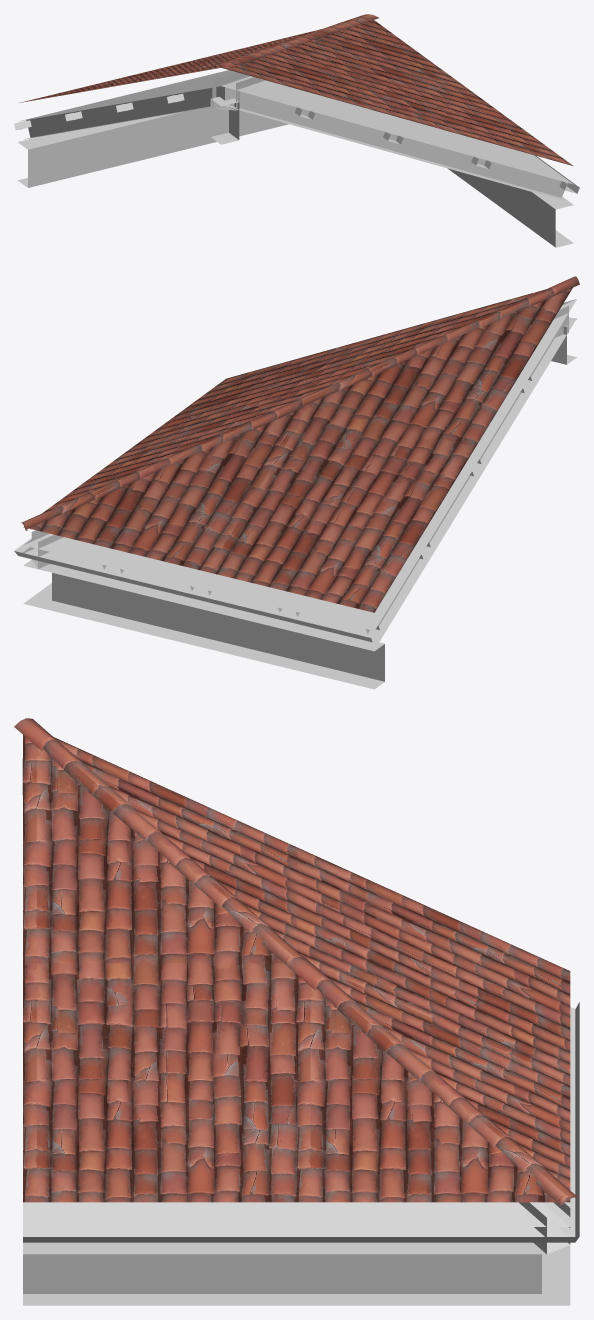
File: WallKit_Hip_LOD1.fbx
3 views of the same model, one above another, from view 1: azimuth 30°, elevation 25°; view 2: azimuth 150°, elevation 25°; view 3: azimuth 270°, elevation 25° (orthographic). The views are drawn at different scales.
Visible parts, largest first — view 1: WallKit_Hip_LOD1; view 2: WallKit_Hip_LOD1; view 3: WallKit_Hip_LOD1.
Boxes of the visible parts, box(x1,y1,x2,y2) form: WallKit_Hip_LOD1: box(14, 14, 579, 247); WallKit_Hip_LOD1: box(14, 276, 579, 689); WallKit_Hip_LOD1: box(14, 718, 579, 1305).
Size of the model in its own units: 414 by 286 by 414.
